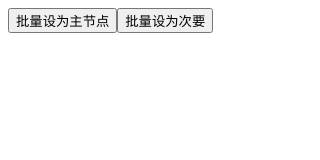
Scenario: GraphMultiSelect（框选 + ⌘A + 批量角色） › 批量失败不谎报：出错误态且不改主标记
Press a
Click the button with test id "graph-batch-primary": (63, 20) x1=8 y1=8 x2=117 y2=33
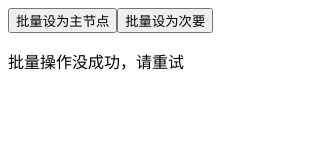
Expected: the text "批量操作没成功，请重试" is shown, x1=8 y1=54 x2=184 y2=71
